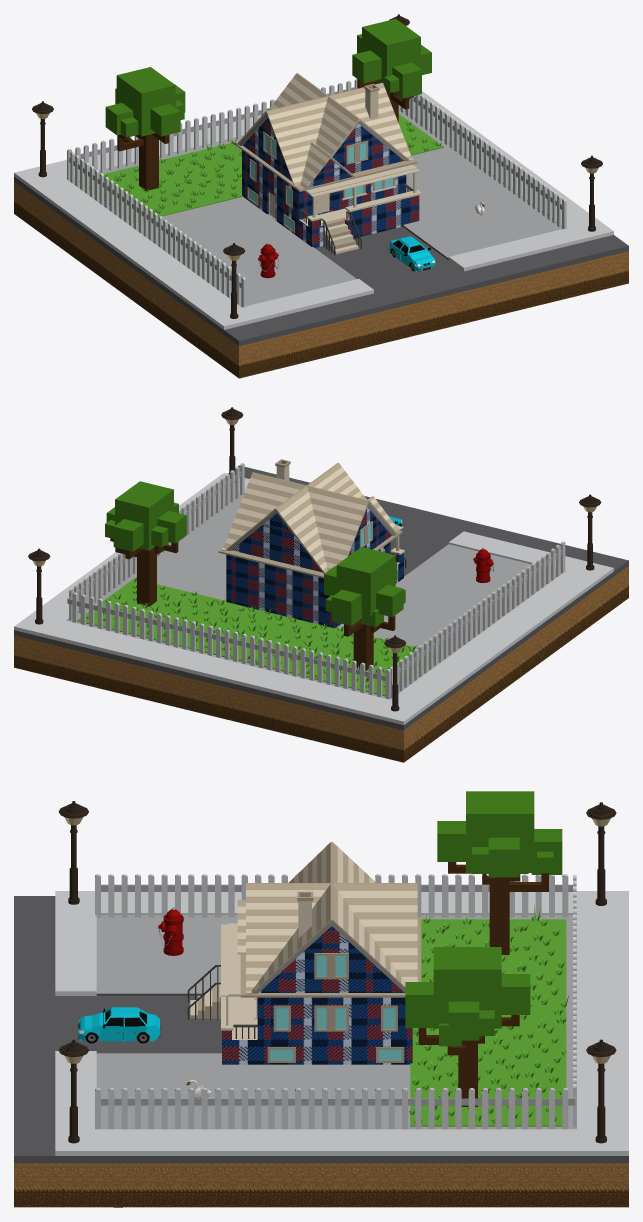
3 renders of one model, top to bottom at view 1: azimuth 30°, elevation 25°; view 2: azimuth 150°, elevation 25°; view 3: azimuth 270°, elevation 25°, orthographic. The views are drawn at different scales.
Parts seen in each view (by area): view 1: Cube.004, Cube.171, VEHICLES_CAR, OBJRANDOM_FIRE_HYDRANT; view 2: Cube.004, Cube.171, OBJRANDOM_FIRE_HYDRANT; view 3: Cube.004, Cube.171, VEHICLES_CAR, OBJRANDOM_FIRE_HYDRANT.
Boxes of the visible parts, box(x1,y1,x2,y2) form: Cube.004: box(14, 14, 628, 378); Cube.171: box(233, 73, 422, 255); VEHICLES_CAR: box(389, 236, 435, 271); OBJRANDOM_FIRE_HYDRANT: box(258, 243, 278, 278); Cube.004: box(14, 407, 628, 762); Cube.171: box(218, 459, 406, 627); OBJRANDOM_FIRE_HYDRANT: box(473, 547, 493, 582); Cube.004: box(14, 791, 628, 1207); Cube.171: box(187, 842, 421, 1064); VEHICLES_CAR: box(77, 1007, 161, 1043); OBJRANDOM_FIRE_HYDRANT: box(158, 907, 183, 955).
Bounding box in the file's own units: 4000 × 1574 × 4000.
Materials: 32 (4 with a texture image).
